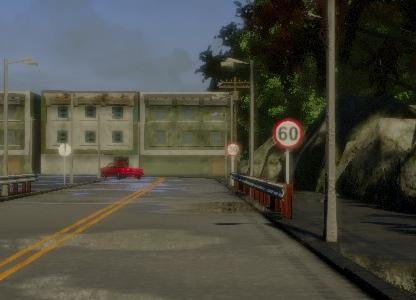Speed_30: (276, 103, 316, 138)
